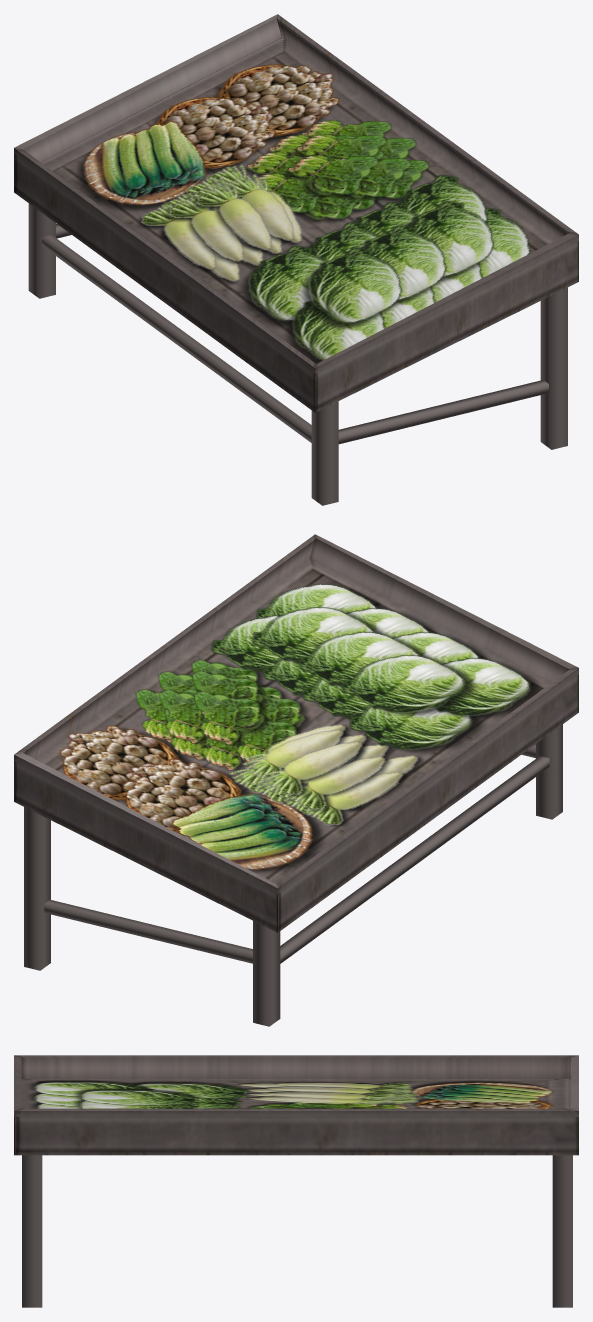
File: cheso.FBX
The picture shows the model from 3 angles, top to bottom: view 1: azimuth 30°, elevation 25°; view 2: azimuth 150°, elevation 25°; view 3: azimuth 270°, elevation 25°; orthographic projection. The views are drawn at different scales.
Visible parts, largest first — view 1: polySurface25; view 2: polySurface25; view 3: polySurface25.
Part boxes in pixels (bbox=[...]): polySurface25: bbox=[14, 14, 578, 505]; polySurface25: bbox=[14, 534, 578, 1026]; polySurface25: bbox=[14, 1055, 578, 1307].
Size of the model in its own units: 14.28 by 11.01 by 28.23.
Materials: 1 (1 with a texture image).
